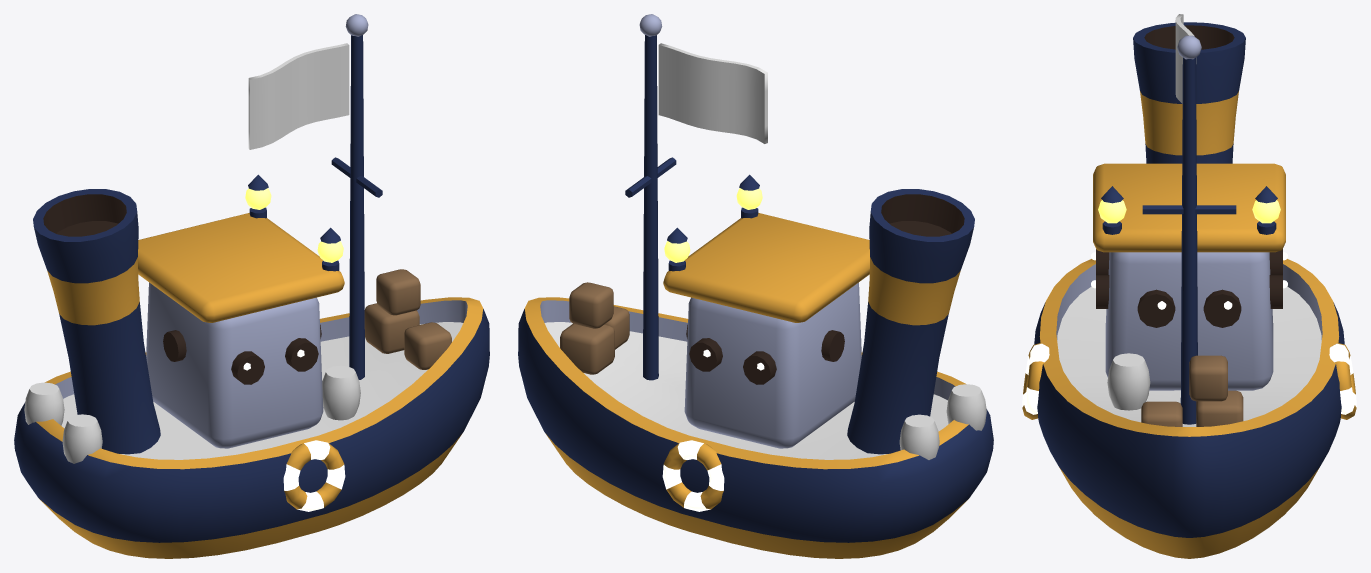
File: cartoon-30-noche.glb
The picture shows the model from 3 angles, left to right: view 1: azimuth 30°, elevation 25°; view 2: azimuth 150°, elevation 25°; view 3: azimuth 270°, elevation 25°; orthographic projection. The views are drawn at different scales.
Visible parts, largest first — view 1: hull, chimney, cabin, roof, flag, mast, crates, life_rings, portholes, barrel.002, barrel.001, barrel; view 2: hull, chimney, cabin, roof, flag, mast, crates, life_rings, portholes, barrel.001, barrel; view 3: hull, cabin, roof, chimney, mast, crates, portholes, life_rings, barrel.002, flag, lantern_glow, lantern_glow.001 (+3 smaller).
Boxes of the visible parts, <box> form: hull: <box>14,297,489,558</box>; chimney: <box>33,189,160,454</box>; cabin: <box>146,282,323,448</box>; roof: <box>138,213,344,322</box>; flag: <box>248,43,349,149</box>; mast: <box>331,35,382,379</box>; crates: <box>364,269,451,369</box>; life_rings: <box>283,440,345,511</box>; portholes: <box>163,324,321,384</box>; barrel.002: <box>322,365,360,420</box>; barrel.001: <box>62,414,102,463</box>; barrel: <box>24,382,64,425</box>; hull: <box>518,297,993,558</box>; chimney: <box>847,189,974,454</box>; cabin: <box>684,282,861,448</box>; roof: <box>663,213,869,322</box>; flag: <box>658,43,767,143</box>; mast: <box>625,35,676,380</box>; crates: <box>560,282,629,374</box>; life_rings: <box>662,440,724,511</box>; portholes: <box>686,324,844,384</box>; barrel.001: <box>946,384,986,430</box>; barrel: <box>899,414,939,459</box>; hull: <box>1034,259,1344,558</box>; cabin: <box>1105,252,1273,390</box>; roof: <box>1093,163,1285,252</box>; chimney: <box>1133,22,1245,163</box>; mast: <box>1142,57,1236,424</box>; crates: <box>1141,355,1243,426</box>; portholes: <box>1096,249,1282,327</box>; life_rings: <box>1022,343,1356,419</box>; barrel.002: <box>1107,353,1150,410</box>; flag: <box>1175,14,1196,103</box>; lantern_glow: <box>1098,200,1126,223</box>; lantern_glow.001: <box>1252,200,1280,223</box>.
Bounding box in the file's own units: 2 × 1.91 × 1.21.
